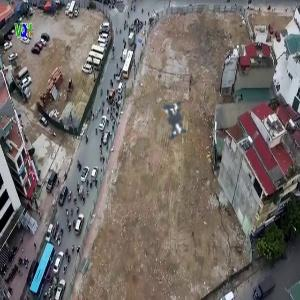drone: (122, 71, 224, 173)
